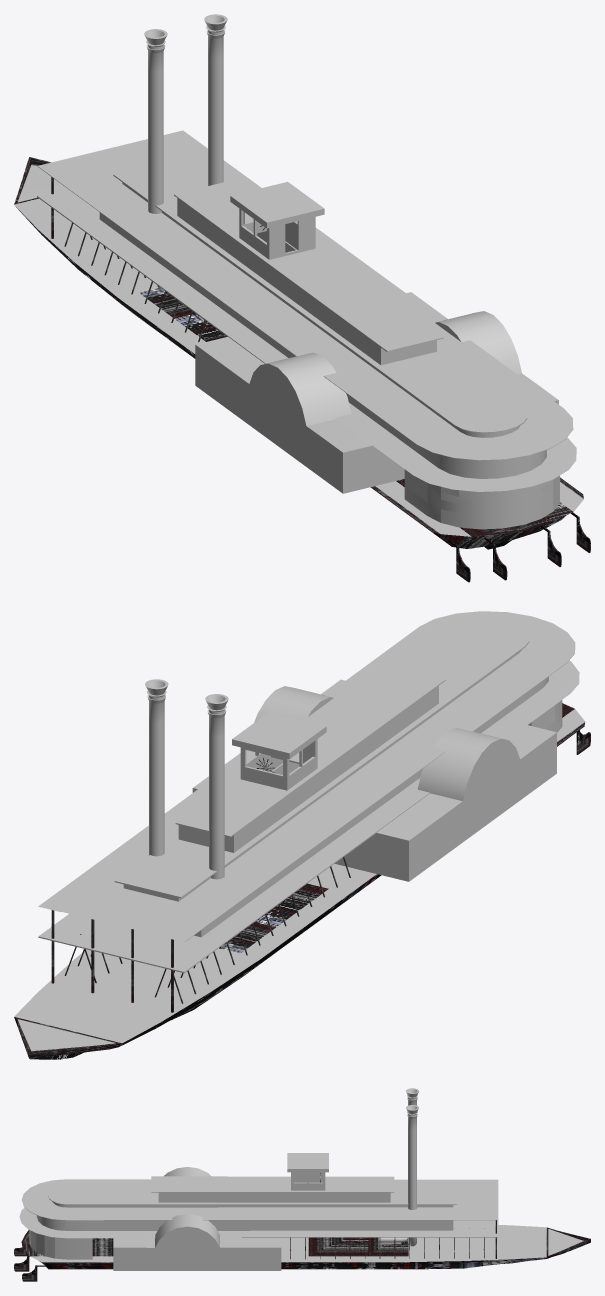
Rendered from riverboat-02.2.obj.
3 views of the same model, one above another, from view 1: azimuth 30°, elevation 25°; view 2: azimuth 150°, elevation 25°; view 3: azimuth 270°, elevation 25° (orthographic). The views are drawn at different scales.
Visible parts, largest first — view 1: riverboat-02.obj.1; view 2: riverboat-02.obj.1; view 3: riverboat-02.obj.1.
Part boxes in pixels (box(x1,y1,x2,y2)): riverboat-02.obj.1: box(14, 14, 590, 582); riverboat-02.obj.1: box(14, 611, 590, 1059); riverboat-02.obj.1: box(14, 1088, 590, 1281).
Size of the model in its own units: 238 by 310 by 968.
